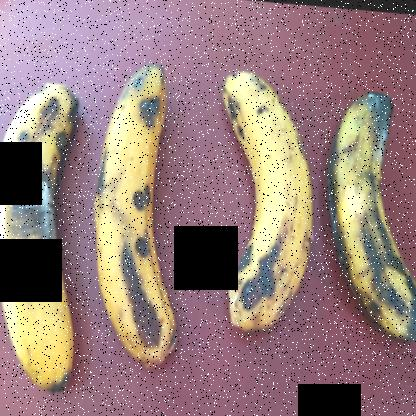overripe: (82, 41, 195, 376), (207, 66, 316, 344)
rotten: (0, 64, 86, 398), (314, 78, 416, 359)
